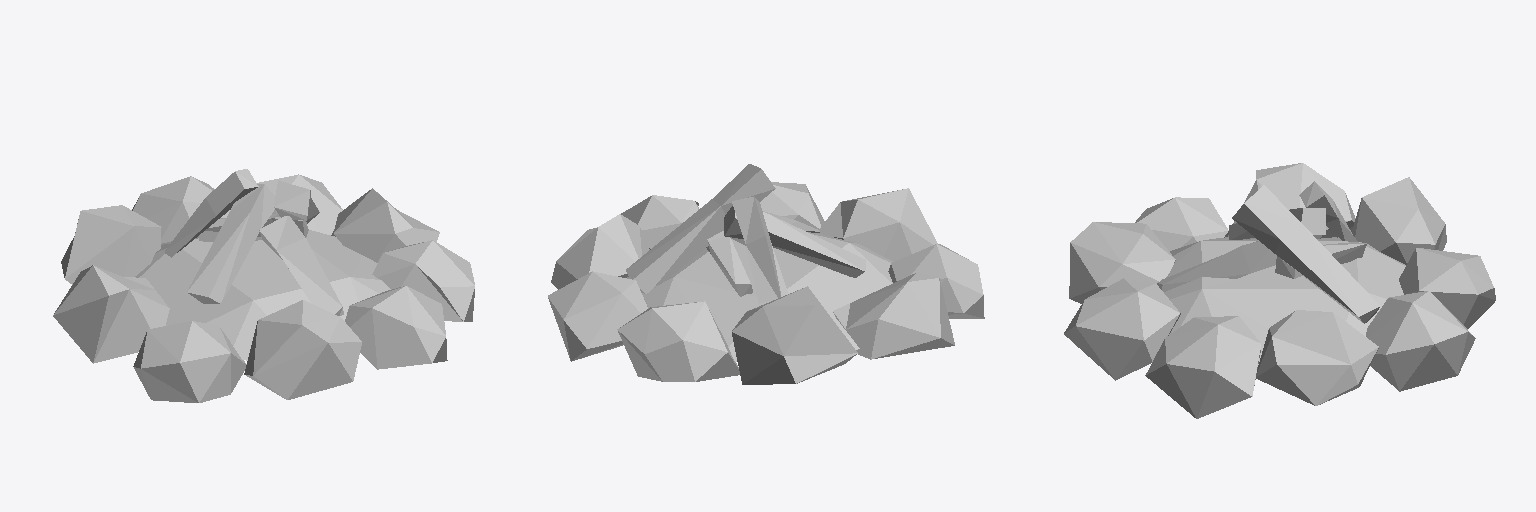
The model's file is rock fire place.obj.
3 renders of one model, left to right at view 1: azimuth 30°, elevation 25°; view 2: azimuth 150°, elevation 25°; view 3: azimuth 270°, elevation 25°, orthographic.
Visible parts, largest first — view 1: fireplace_Plane.001; view 2: fireplace_Plane.001; view 3: fireplace_Plane.001.
Boxes of the visible parts, <box> form: fireplace_Plane.001: <box>53,169,474,402</box>; fireplace_Plane.001: <box>548,164,984,384</box>; fireplace_Plane.001: <box>1064,163,1495,418</box>.
Bounding box in the file's own units: 1.26 × 0.499 × 1.25.